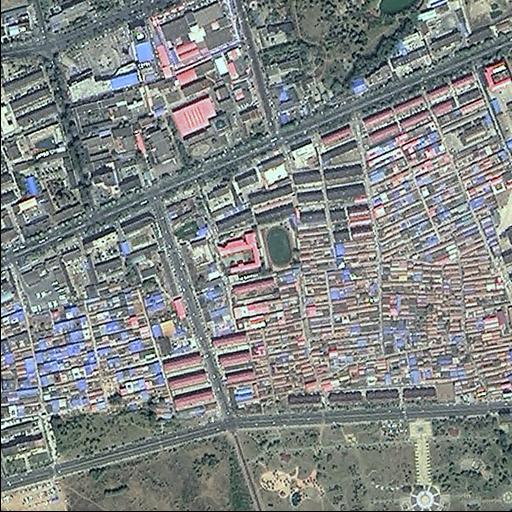school: (210, 216, 300, 281)
